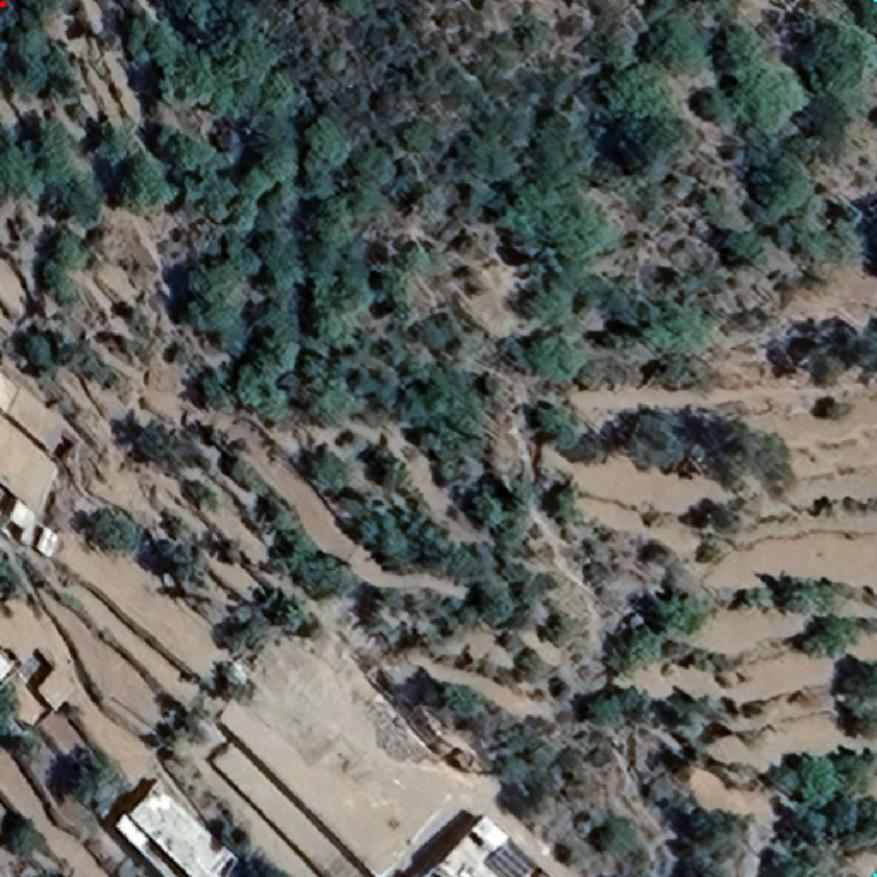Solarpanel: (482, 837, 540, 877)
